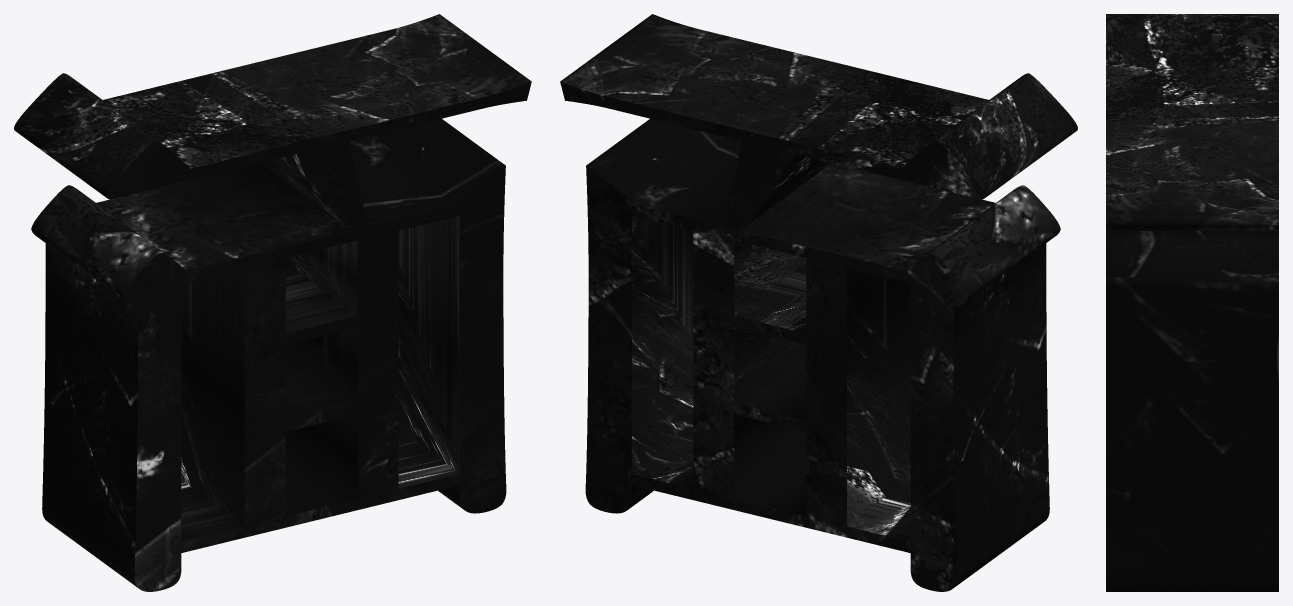
Rendered from MENN.obj.
3 renders of one model, left to right at view 1: azimuth 30°, elevation 25°; view 2: azimuth 150°, elevation 25°; view 3: azimuth 270°, elevation 25°, orthographic. The views are drawn at different scales.
Parts seen in each view (by area): view 1: menn; view 2: menn; view 3: menn.
Boxes of the visible parts, x1,y1,x2,y2 form: menn: (14,14,531,591); menn: (560,14,1077,591); menn: (1106,14,1278,591).
Bounding box in the file's own units: 5.32 × 5.39 × 2.
Materials: 1 (1 with a texture image).
